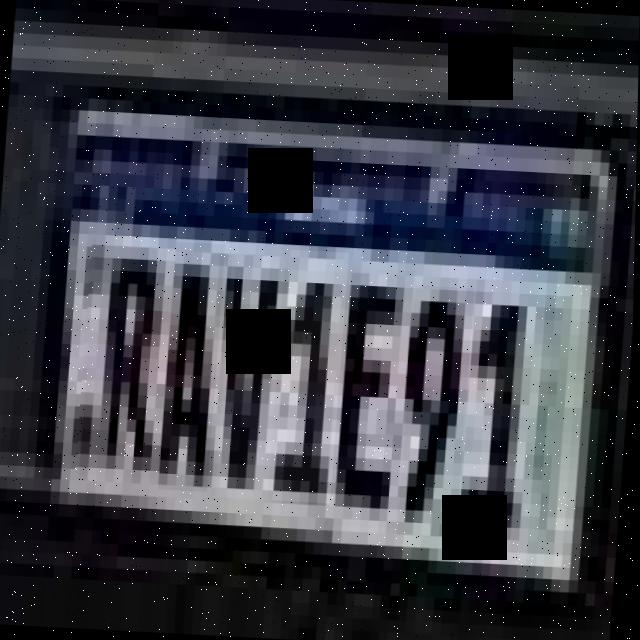1: (457, 292, 553, 560), (275, 250, 350, 503)
9: (400, 285, 476, 538)
A: (160, 242, 227, 492)
E: (334, 268, 418, 529)
R: (78, 236, 178, 480)
V: (217, 255, 289, 500)
